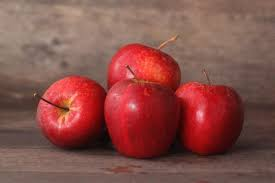apple: (33, 78, 111, 149), (104, 85, 178, 156), (179, 84, 243, 156), (108, 46, 180, 96)
